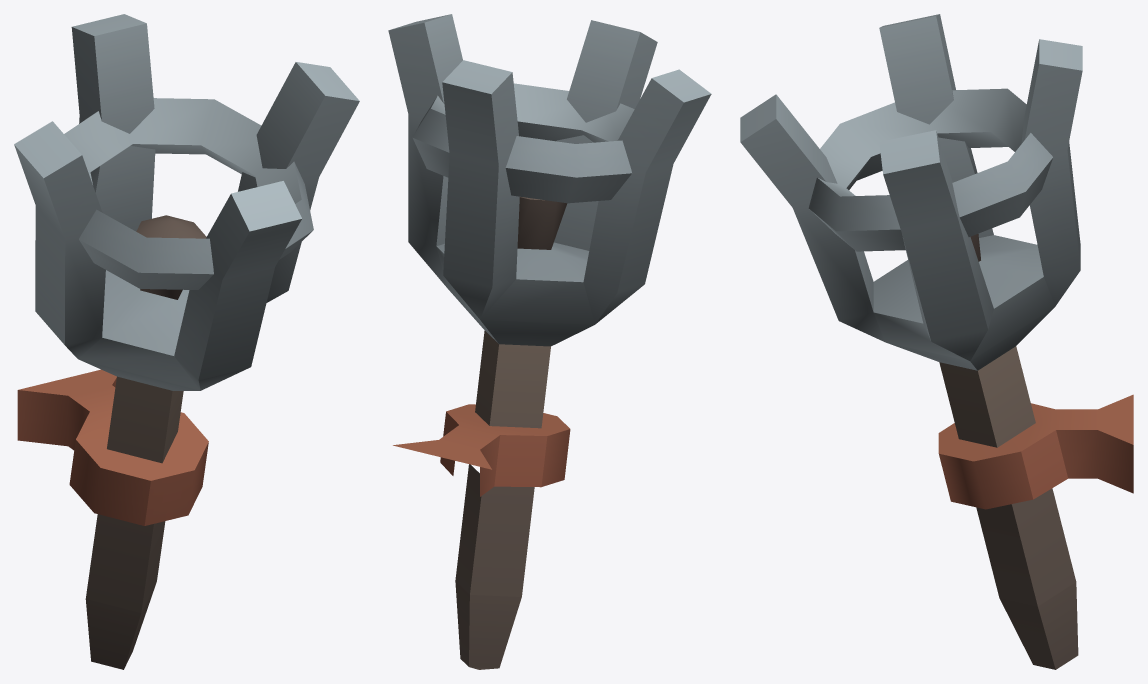
The model's file is dungeon-torch-wall.glb.
The picture shows the model from 3 angles, left to right: view 1: azimuth 30°, elevation 25°; view 2: azimuth 150°, elevation 25°; view 3: azimuth 270°, elevation 25°; orthographic projection. The views are drawn at different scales.
Parts seen in each view (by area): view 1: dungeon-torch-wall; view 2: dungeon-torch-wall; view 3: dungeon-torch-wall.
Part boxes in pixels (x1,y1,x2,y2): dungeon-torch-wall: (14,14,359,669); dungeon-torch-wall: (388,14,711,669); dungeon-torch-wall: (740,14,1133,669).
Bounding box in the file's own units: 0.4127 × 0.7969 × 0.4619.
Materials: 1 (1 with a texture image).
